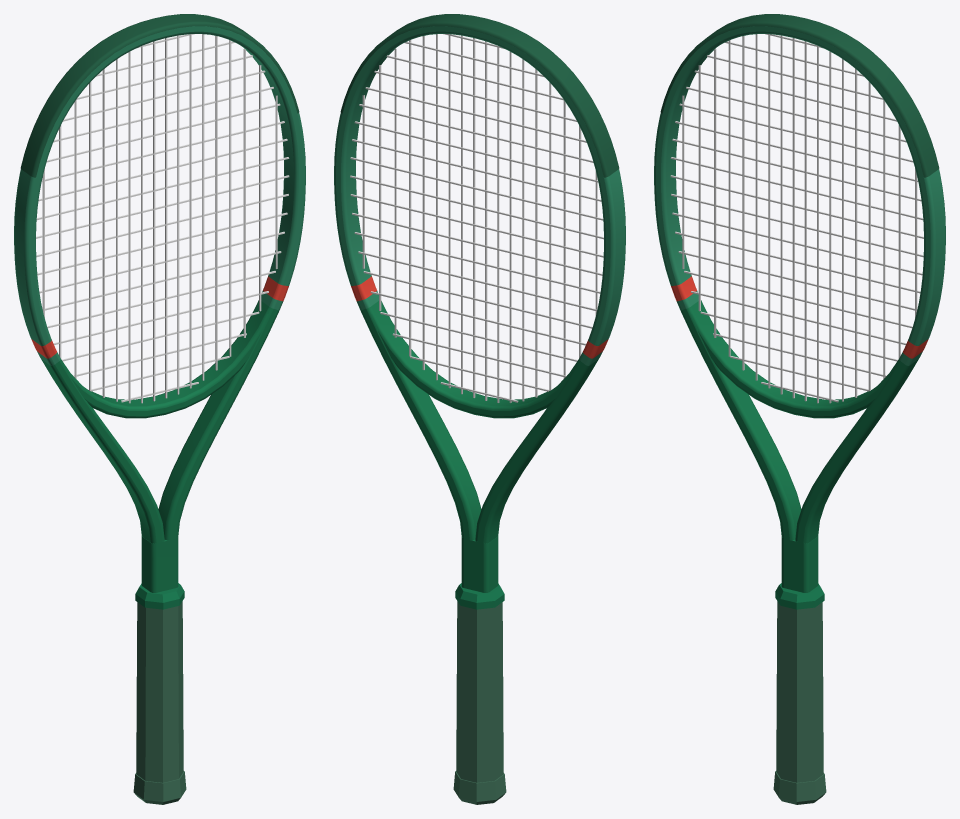
The model's file is wilson-blade-98-18x20-v10-2026.glb.
3 views of the same model, side by side, from view 1: azimuth 30°, elevation 25°; view 2: azimuth 150°, elevation 25°; view 3: azimuth 330°, elevation 25° (orthographic).
Visible parts, largest first — view 1: frame, strings_mains, strings_crosses, grip, bumper, butt_cap, collar; view 2: frame, strings_mains, strings_crosses, grip, bumper, butt_cap, collar; view 3: frame, strings_mains, strings_crosses, grip, bumper, butt_cap, collar.
Boxes of the visible parts, x1=… form: frame: x1=14, y1=26, x2=305, y2=592; strings_mains: x1=42, y1=34, x2=277, y2=403; strings_crosses: x1=36, y1=34, x2=289, y2=402; grip: x1=136, y1=601, x2=183, y2=782; bumper: x1=20, y1=14, x2=299, y2=177; butt_cap: x1=133, y1=771, x2=186, y2=804; collar: x1=135, y1=583, x2=184, y2=609; frame: x1=334, y1=26, x2=625, y2=592; strings_mains: x1=362, y1=34, x2=597, y2=402; strings_crosses: x1=350, y1=34, x2=603, y2=402; grip: x1=456, y1=601, x2=503, y2=782; bumper: x1=340, y1=14, x2=619, y2=177; butt_cap: x1=453, y1=771, x2=506, y2=804; collar: x1=455, y1=583, x2=504, y2=609; frame: x1=654, y1=26, x2=945, y2=592; strings_mains: x1=682, y1=34, x2=917, y2=403; strings_crosses: x1=670, y1=34, x2=923, y2=402; grip: x1=776, y1=601, x2=823, y2=782; bumper: x1=660, y1=14, x2=939, y2=177; butt_cap: x1=773, y1=771, x2=826, y2=804; collar: x1=775, y1=583, x2=824, y2=609.
Size of the model in its own units: 0.2616 by 0.6861 by 0.0396.
